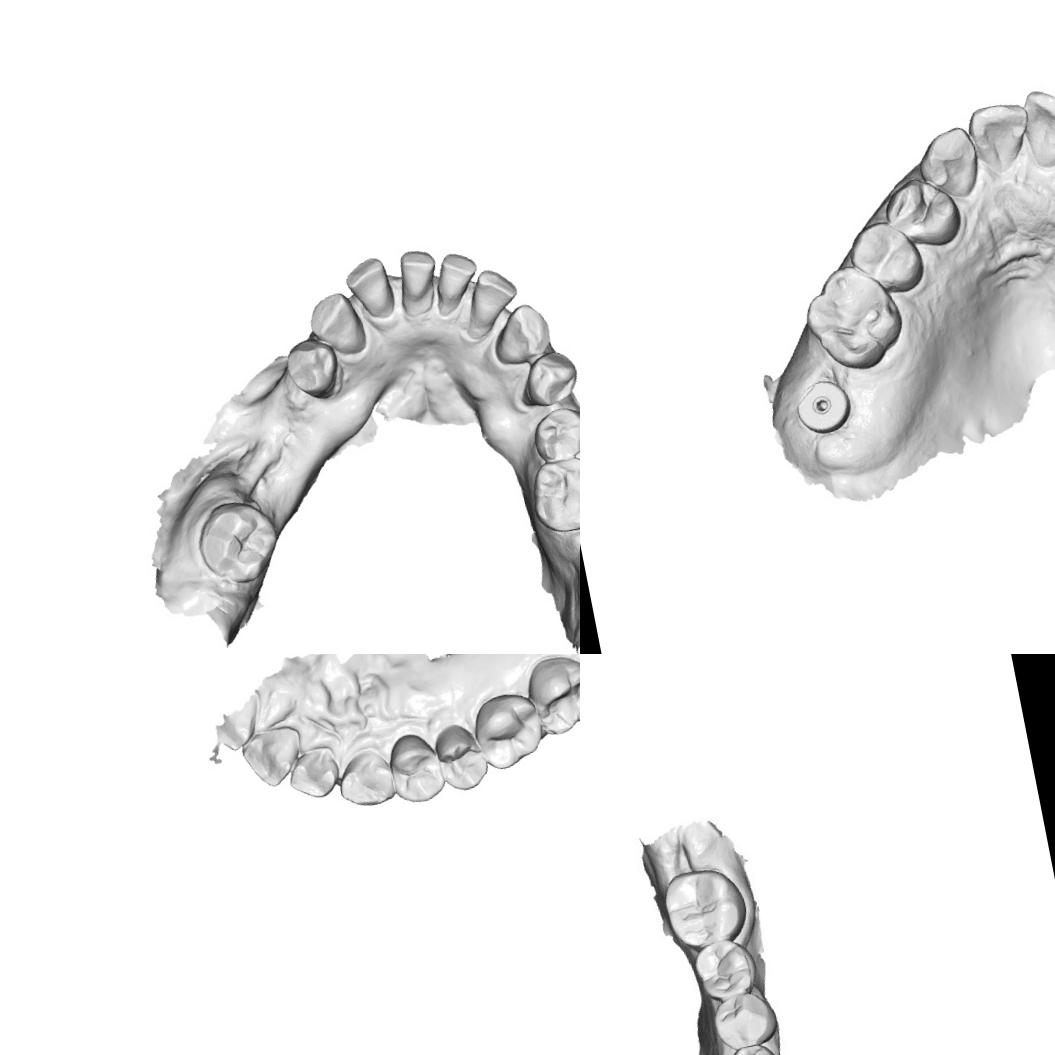canine: (911, 122, 985, 204), (304, 288, 370, 362), (487, 299, 555, 368), (332, 744, 396, 812)
implant: (789, 374, 854, 438)
incisor: (962, 96, 1038, 178), (237, 722, 309, 792), (458, 263, 524, 334), (390, 245, 446, 322), (426, 246, 485, 318), (341, 253, 398, 324), (282, 742, 344, 804), (1017, 79, 1055, 174)
molar: (791, 256, 912, 380), (190, 493, 287, 588), (658, 858, 750, 955), (467, 688, 548, 774), (521, 654, 580, 739), (524, 450, 580, 537)
premolar: (878, 168, 966, 256), (842, 213, 928, 301), (384, 728, 448, 808), (430, 718, 492, 796), (692, 935, 760, 1005), (280, 333, 344, 405), (512, 345, 580, 410), (710, 990, 780, 1051), (527, 401, 580, 464), (720, 1038, 786, 1055)
